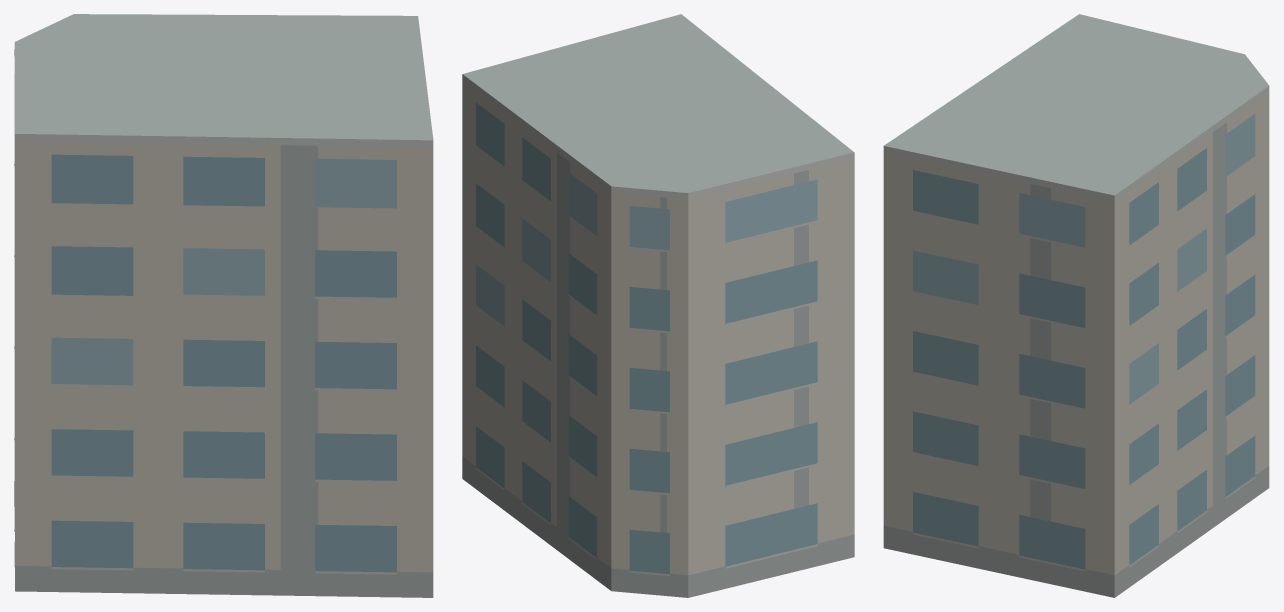
File: survey-upis-32680405.glb
3 views of the same model, side by side, from view 1: azimuth 30°, elevation 25°; view 2: azimuth 150°, elevation 25°; view 3: azimuth 270°, elevation 25° (orthographic). The views are drawn at different scales.
Parts seen in each view (by area): view 1: survey-upis-32680405.tmp; view 2: survey-upis-32680405.tmp; view 3: survey-upis-32680405.tmp.
Part boxes in pixels (left/top/right/bottom): survey-upis-32680405.tmp: left=14, top=14, right=433, bottom=597; survey-upis-32680405.tmp: left=462, top=14, right=854, bottom=597; survey-upis-32680405.tmp: left=883, top=14, right=1269, bottom=597.
Size of the model in its own units: 14.77 by 15.25 by 13.26.
